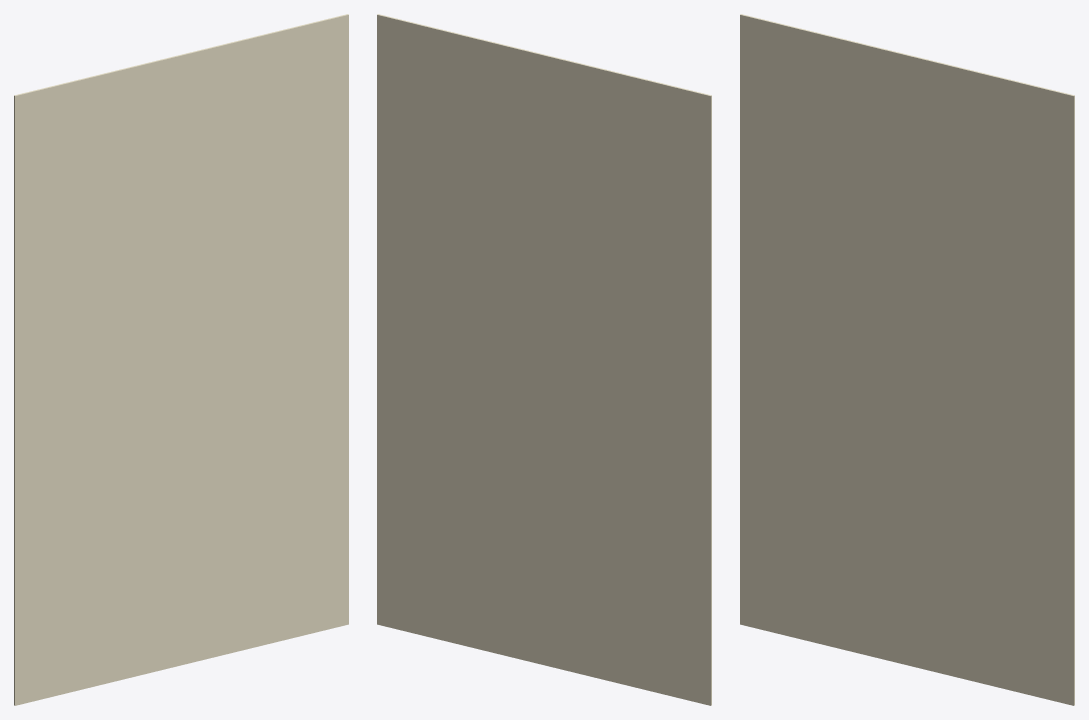
File: original-12.obj
3 renders of one model, left to right at view 1: azimuth 30°, elevation 25°; view 2: azimuth 150°, elevation 25°; view 3: azimuth 330°, elevation 25°, orthographic.
Parts seen in each view (by area): view 1: BACK1/BACK/mesh8/mesh8-geometry#mesh8-geometry; view 2: BACK1/BACK/mesh8/mesh8-geometry#mesh8-geometry; view 3: BACK1/BACK/mesh8/mesh8-geometry#mesh8-geometry.
Part boxes in pixels (x1,y1,x2,y2): BACK1/BACK/mesh8/mesh8-geometry#mesh8-geometry: [14, 14, 348, 705]; BACK1/BACK/mesh8/mesh8-geometry#mesh8-geometry: [377, 14, 711, 705]; BACK1/BACK/mesh8/mesh8-geometry#mesh8-geometry: [740, 14, 1074, 705].
Bounding box in the file's own units: 0.9501 × 1.66 × 0.00511.
